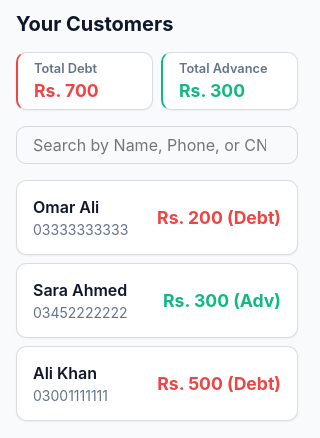
Test: CustomerList › Balance filter › debt filter shows only positive-balance customers
The image size is (320, 438).
Click the button with aria-label "Filter customers with outstanding debt".
click(84, 80)  # box [16,52,153,110]
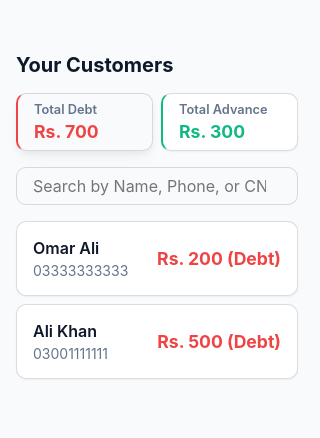
Expected: the button "Ali Khan 03001111111 Rs. 500 (Debt)" is shown, [16,304,298,379]
Expected: the button "Sara Ahmed" is gone
